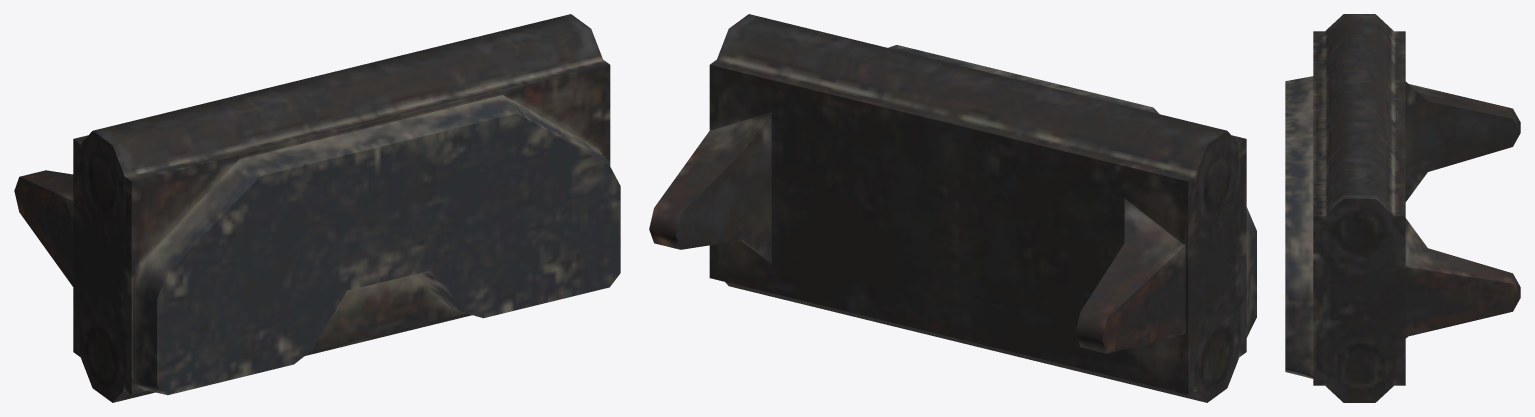
3 views of the same model, side by side, from view 1: azimuth 30°, elevation 25°; view 2: azimuth 150°, elevation 25°; view 3: azimuth 270°, elevation 25° (orthographic). The views are drawn at different scales.
Visible parts, largest first — view 1: set_0_group_0; view 2: set_0_group_0; view 3: set_0_group_0.
Boxes of the visible parts, bbox=[...] form: set_0_group_0: bbox=[14, 14, 620, 402]; set_0_group_0: bbox=[649, 14, 1256, 402]; set_0_group_0: bbox=[1285, 14, 1520, 402].
Size of the model in its own units: 0.2913 by 0.1498 by 0.1568.
Materials: 1 (1 with a texture image).
